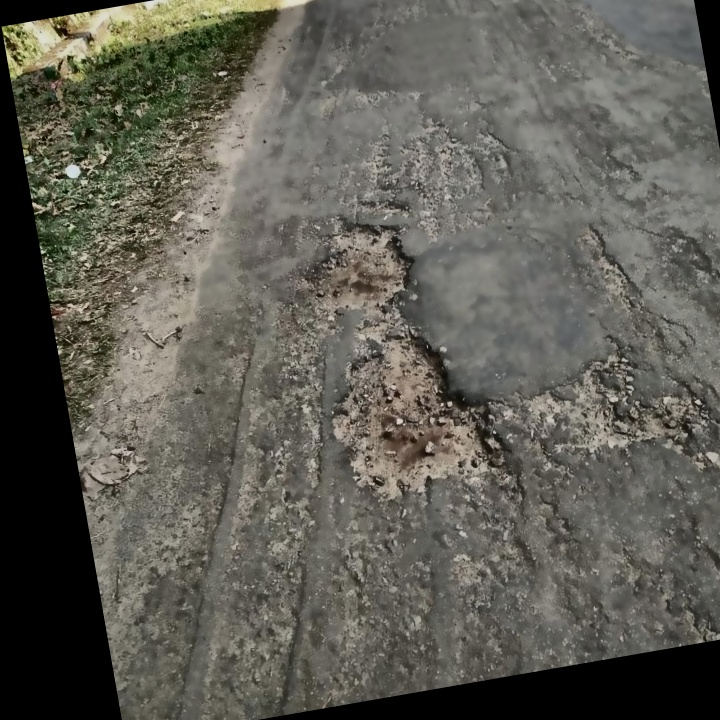pothole: (315, 314, 505, 507), (539, 344, 713, 464), (297, 206, 420, 317)
